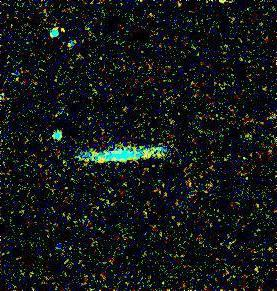star: (46, 16, 76, 46)
